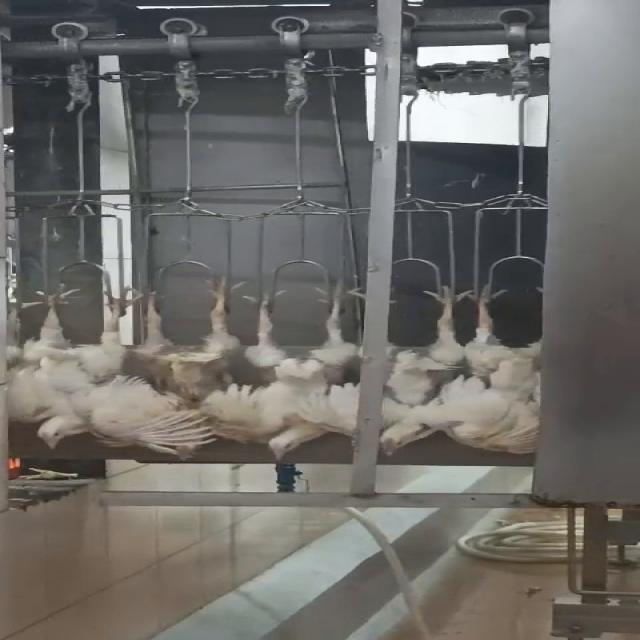chicken: (0, 273, 149, 449), (132, 274, 264, 433), (242, 286, 352, 464), (453, 280, 560, 457), (370, 284, 469, 462)
